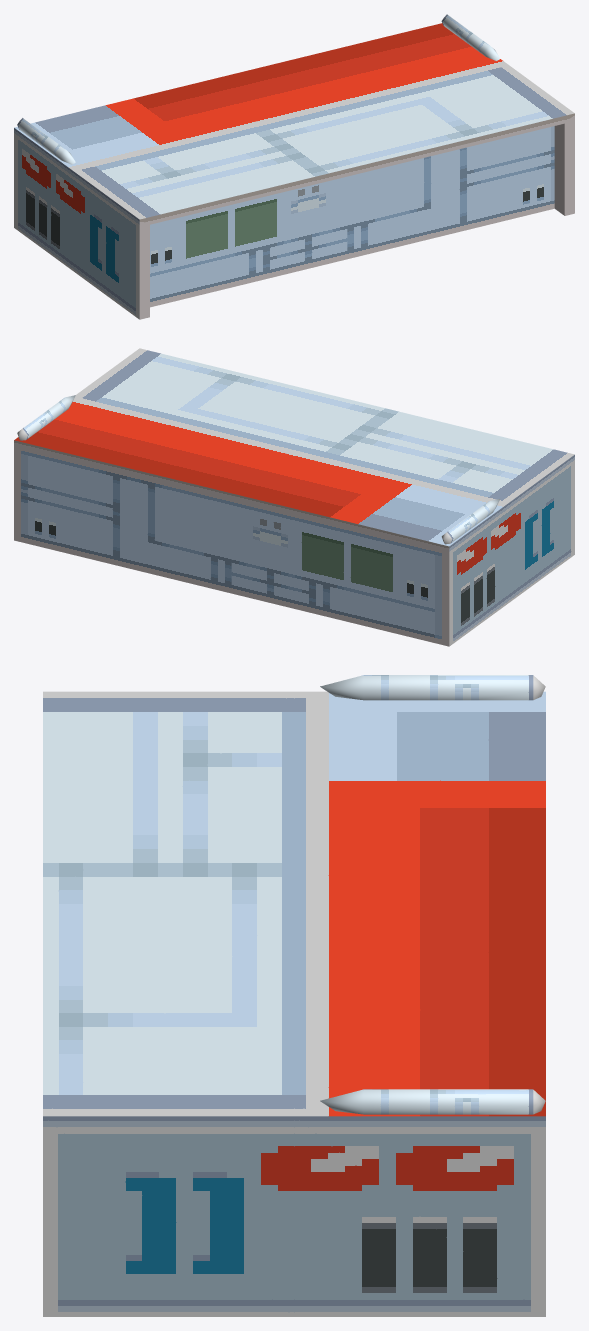
3 renders of one model, top to bottom at view 1: azimuth 30°, elevation 25°; view 2: azimuth 150°, elevation 25°; view 3: azimuth 270°, elevation 25°, orthographic. The views are drawn at different scales.
Visible parts, largest first — view 1: 3651kg_case_18; view 2: 3651kg_case_18; view 3: 3651kg_case_18.
Part boxes in pixels (left/top/right/bottom): 3651kg_case_18: left=14, top=14, right=574, bottom=319; 3651kg_case_18: left=14, top=348, right=574, bottom=646; 3651kg_case_18: left=43, top=675, right=545, bottom=1316.
Bounding box in the file's own units: 2 × 0.4875 × 1.
3 materials, 3 textured.
